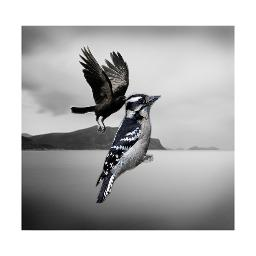Crow: (70, 45, 130, 136)
Woodpecker: (95, 92, 161, 204)
